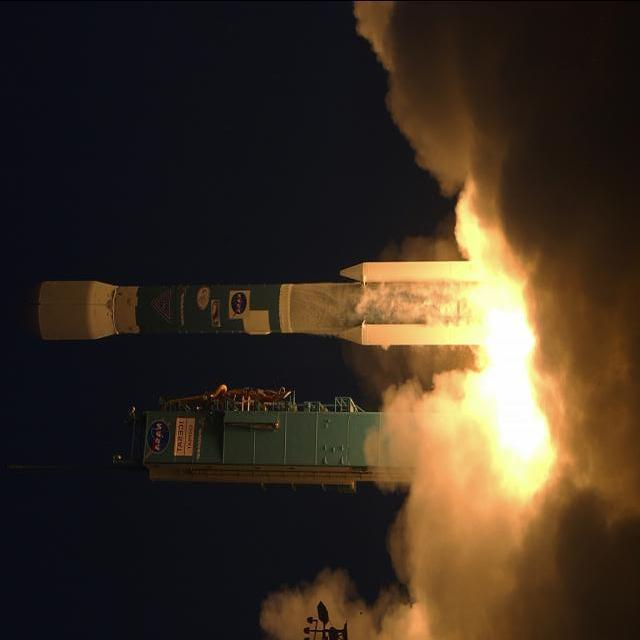missile: (3, 254, 638, 374)
